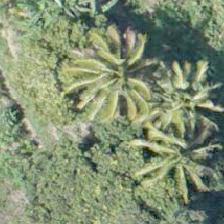Kelapa_Sawit: (73, 27, 163, 117), (138, 109, 223, 200), (144, 54, 223, 145)
